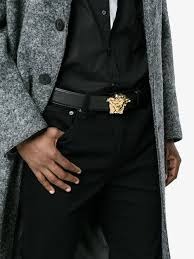F_belt: (41, 82, 168, 120)
F_dress pants: (18, 104, 169, 259)
